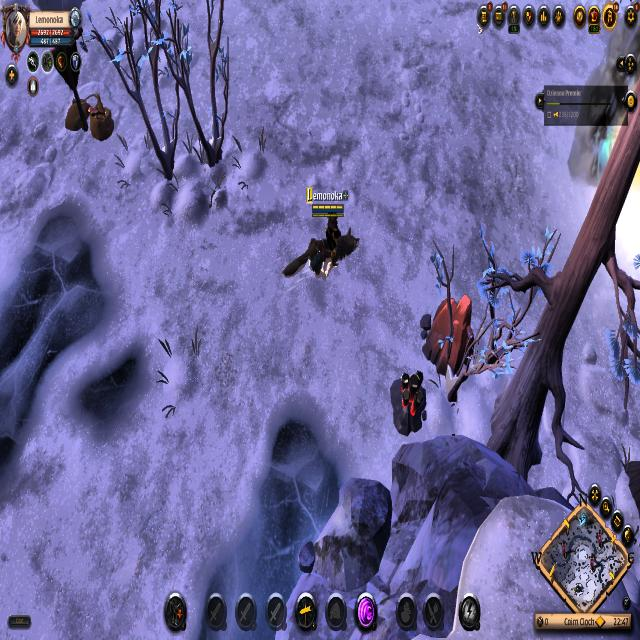ore tier 5: (388, 367, 428, 438)
rock tier 5: (422, 294, 474, 376)
